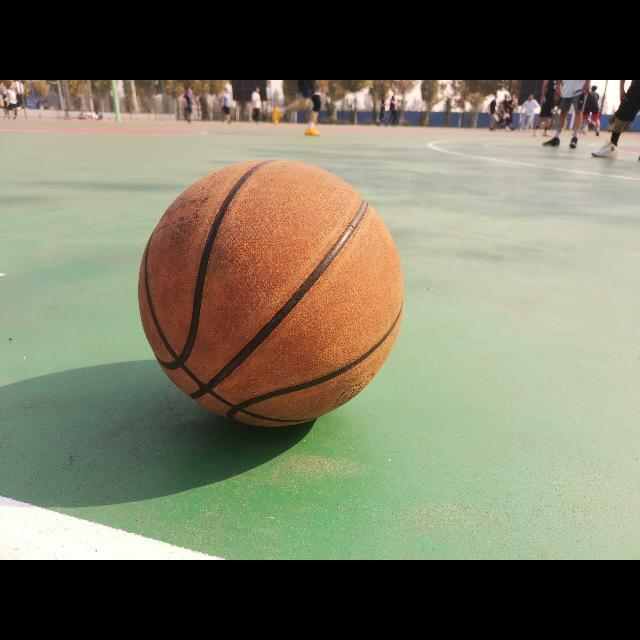basketball: (138, 162, 404, 426)
